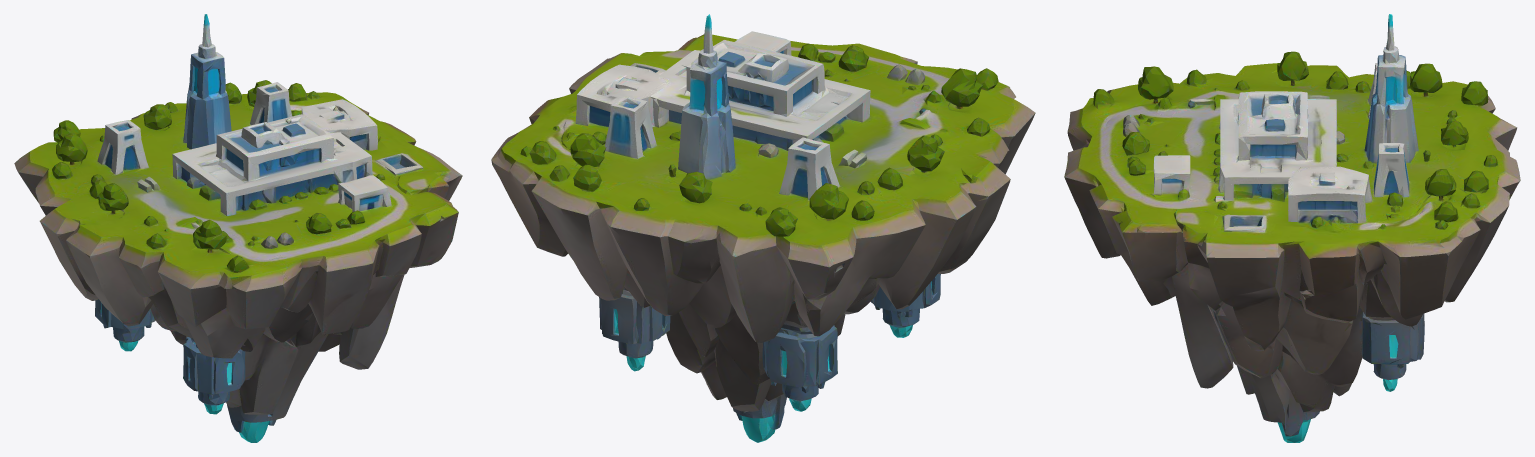
3 views of the same model, side by side, from view 1: azimuth 30°, elevation 25°; view 2: azimuth 150°, elevation 25°; view 3: azimuth 270°, elevation 25° (orthographic). The views are drawn at different scales.
Parts seen in each view (by area): view 1: Mesh; view 2: Mesh; view 3: Mesh.
Part boxes in pixels (x1,y1,x2,y2): Mesh: [14, 14, 462, 442]; Mesh: [491, 14, 1035, 442]; Mesh: [1064, 14, 1520, 442].
Bounding box in the file's own units: 1.81 × 1.89 × 1.82.
Materials: 1 (1 with a texture image).
